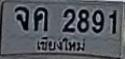1: (108, 9, 116, 33)
2: (62, 8, 75, 31)
8: (77, 8, 88, 32)
9: (91, 9, 103, 32)
A04: (33, 6, 47, 30)
A08: (14, 6, 28, 30)
CMI: (33, 35, 86, 52)
